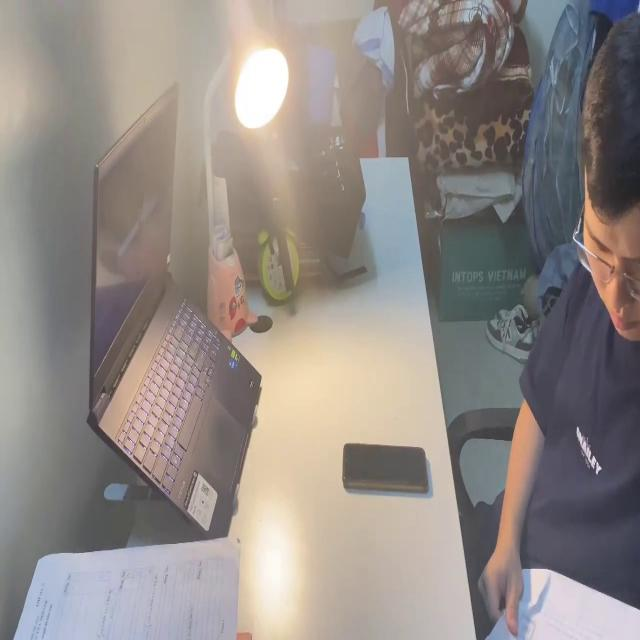book: (13, 535, 245, 640), (486, 557, 640, 640)
laptop: (84, 80, 262, 540)
phone: (342, 440, 428, 497)
student: (461, 8, 640, 640)
